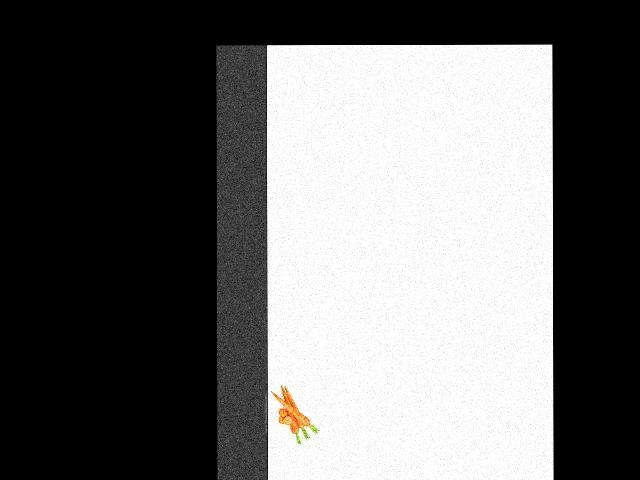carrot: (282, 383, 305, 438)
